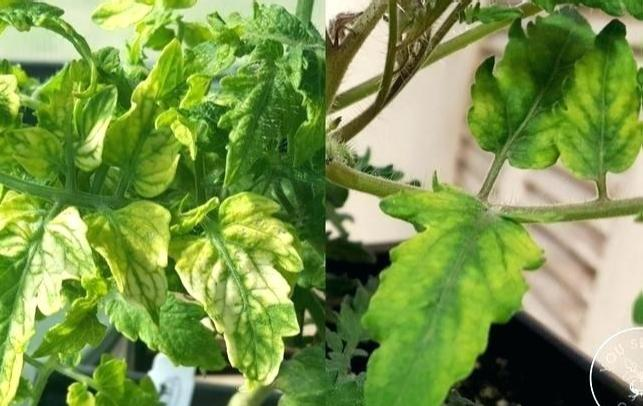Tomato leaf yellow virus: (346, 172, 555, 406), (179, 194, 301, 394), (468, 10, 605, 187), (0, 190, 102, 406), (82, 204, 193, 343), (557, 25, 643, 185), (110, 51, 192, 215), (11, 71, 116, 190), (64, 360, 172, 406)
